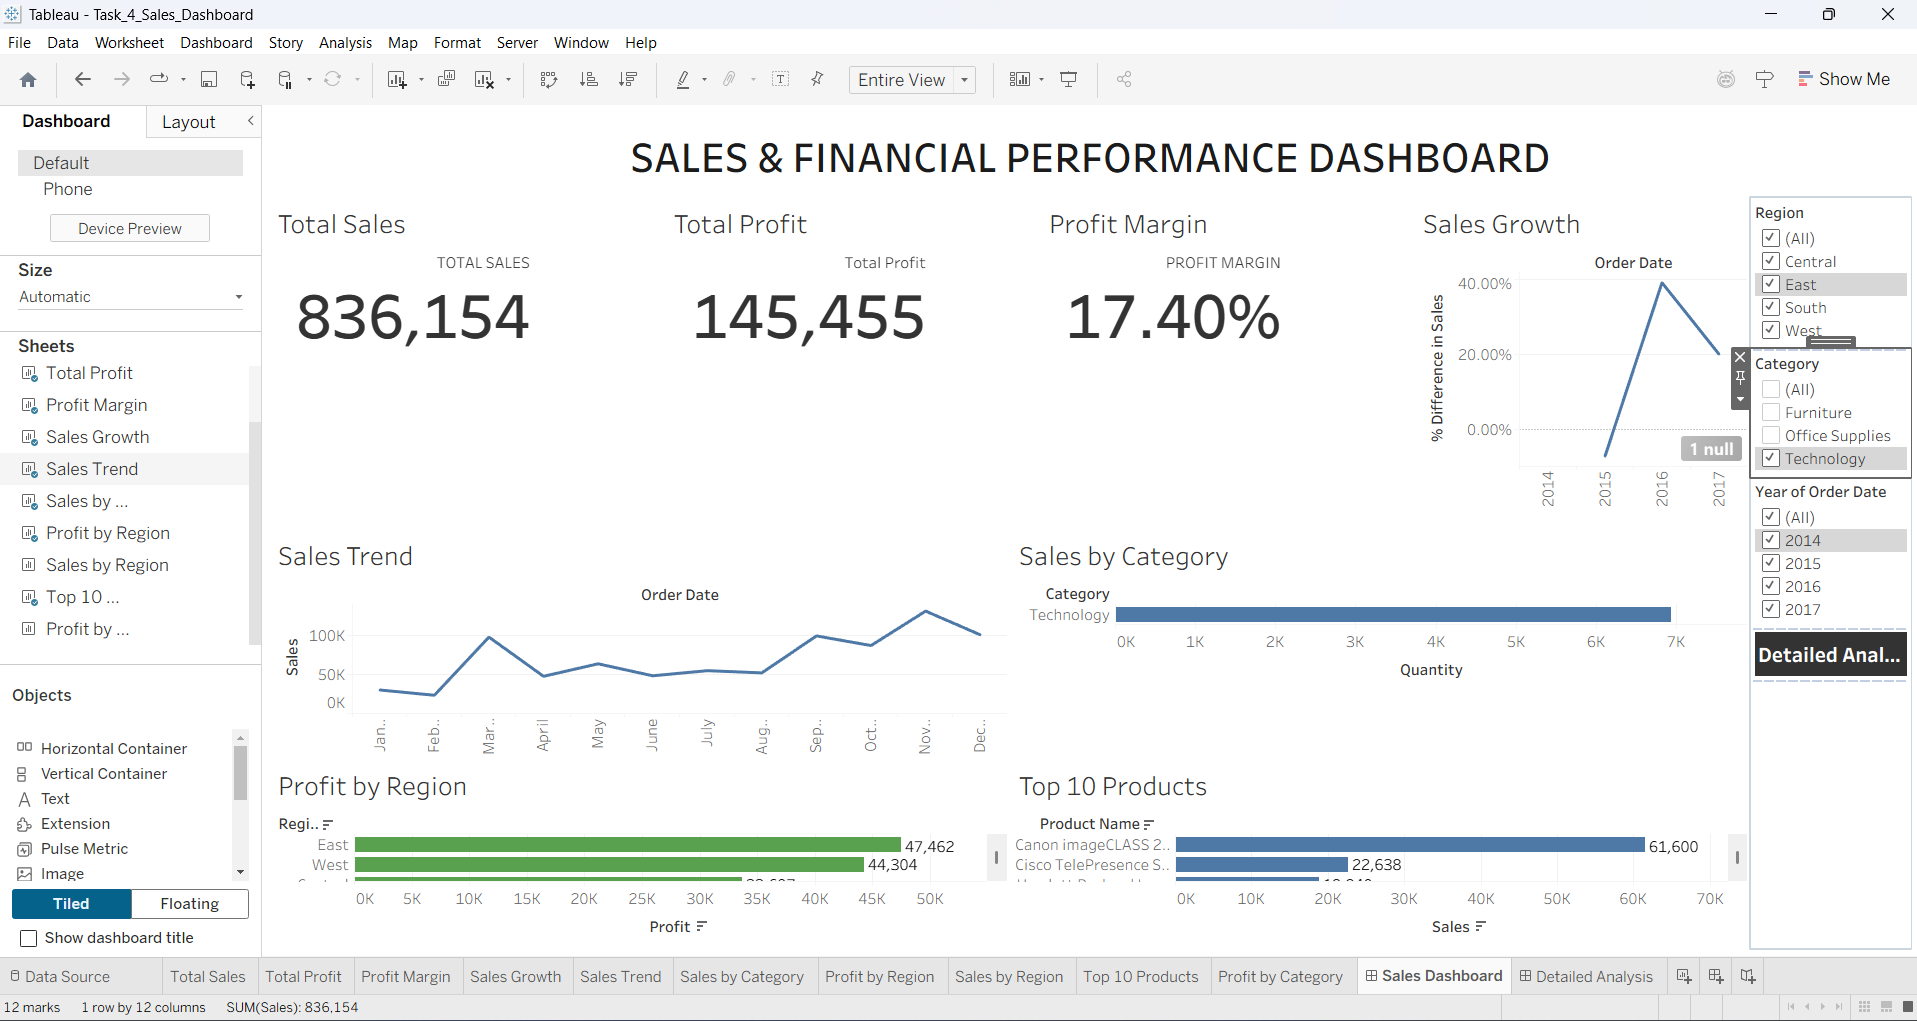

This screenshot's page, from the dashboard's own definition file:
{"tool":"tableau","page":{"name":"Sales Dashboard","canvas":[1000,1000],"units":"permille","ordinal":1},"visuals":[{"type":"text","box":[4.8,9.4,990.3,99.9]},{"type":"worksheet","title":"Total Sales","mark":"Automatic","box":[4.8,109.3,238.9,390.1]},{"type":"worksheet","title":"Total Profit","mark":"Automatic","box":[243.7,109.3,226.2,390.1]},{"type":"worksheet","title":"Profit Margin","mark":"Automatic","box":[469.9,109.3,226.2,390.1]},{"type":"worksheet","title":"Sales Growth","mark":"Automatic","rows":["Sales"],"cols":["Order Date"],"box":[696.1,109.3,202.6,390.1]},{"type":"filter","title":"Sales Trend","param":"[federated.1bbwyk90vp2ege18dg5my0c4wxmg].[none:Region:nk]","box":[898.6,109.3,96.6,177.4]},{"type":"filter","title":"Sales Trend","param":"[federated.1bbwyk90vp2ege18dg5my0c4wxmg].[none:Category:nk]","box":[898.6,286.7,96.6,150.4]},{"type":"filter","title":"Sales Trend","param":"[federated.1bbwyk90vp2ege18dg5my0c4wxmg].[yr:Order Date:ok]","box":[898.6,437.1,96.6,177.4]},{"type":"worksheet","title":"Sales Trend","mark":"Line","rows":["Sales"],"cols":["Order Date"],"box":[4.8,499.4,446.9,270.4]},{"type":"worksheet","title":"Sales by Category","mark":"Bar","rows":["Category"],"cols":["Quantity"],"box":[451.7,499.4,446.9,270.4]},{"type":"dashboard-object","box":[898.6,614.6,96.6,61.1]},{"type":"worksheet","title":"Profit by Region","mark":"Bar","rows":["Region"],"cols":["Profit"],"box":[4.8,769.8,446.9,220.8]},{"type":"worksheet","title":"Top 10 Products","mark":"Automatic","rows":["Product Name"],"cols":["Sales"],"box":[451.7,769.8,446.9,220.8]}]}

Visuals, with their boxes on the dashboard's canvas, which has no fixed pixel size, in thousandths of its width and height (x1, y1, x2, y2). These are canvas units, not pixel positions in the 1917x1021 screenshot, which may show the page scaled, cropped or inside an application window:
text: bbox=(5, 9, 995, 109)
"Total Sales" worksheet: bbox=(5, 109, 244, 499)
"Total Profit" worksheet: bbox=(244, 109, 470, 499)
"Profit Margin" worksheet: bbox=(470, 109, 696, 499)
"Sales Growth" worksheet: bbox=(696, 109, 899, 499)
"Sales Trend" filter: bbox=(899, 109, 995, 287)
"Sales Trend" filter: bbox=(899, 287, 995, 437)
"Sales Trend" filter: bbox=(899, 437, 995, 614)
"Sales Trend" worksheet (Line marks): bbox=(5, 499, 452, 770)
"Sales by Category" worksheet (Bar marks): bbox=(452, 499, 899, 770)
dashboard-object: bbox=(899, 615, 995, 676)
"Profit by Region" worksheet (Bar marks): bbox=(5, 770, 452, 991)
"Top 10 Products" worksheet: bbox=(452, 770, 899, 991)
